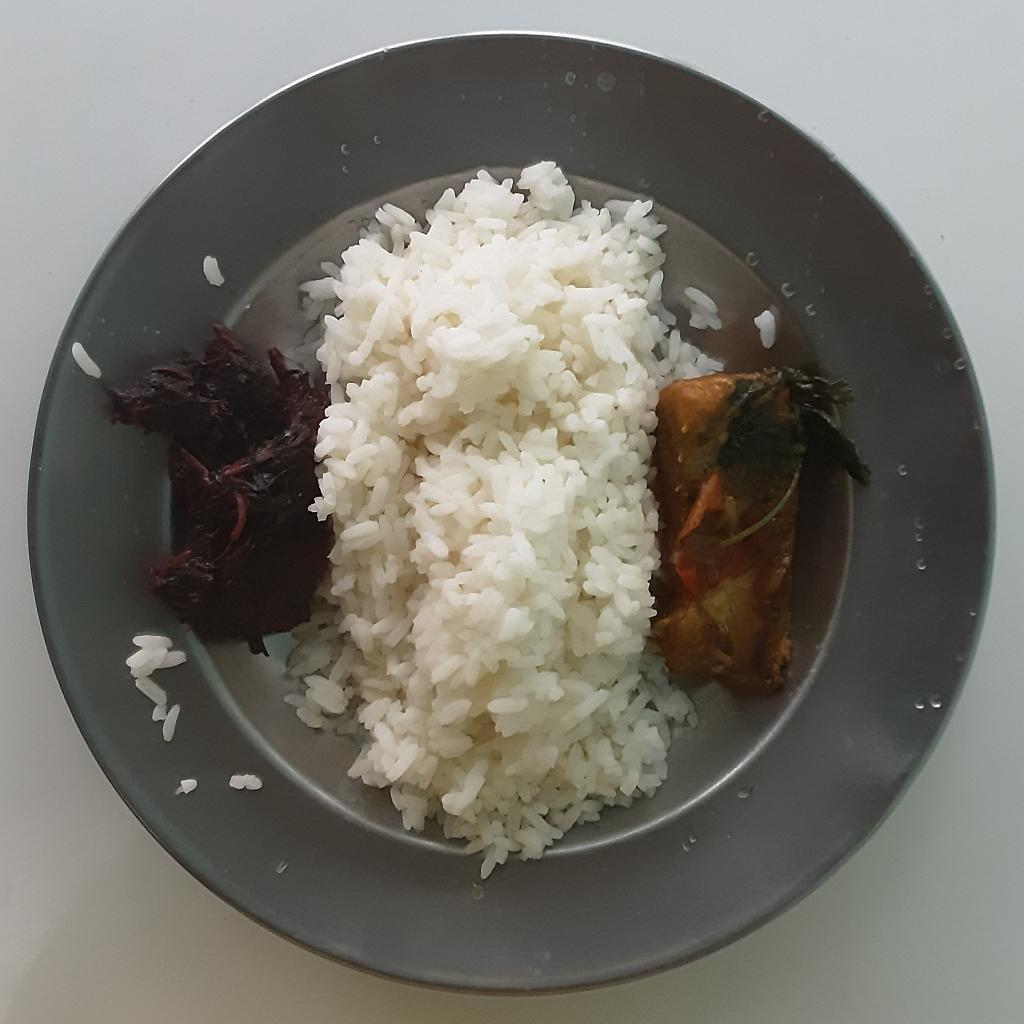fish: (656, 367, 871, 694)
lal-shak: (109, 316, 326, 656)
rice: (287, 162, 725, 886)
